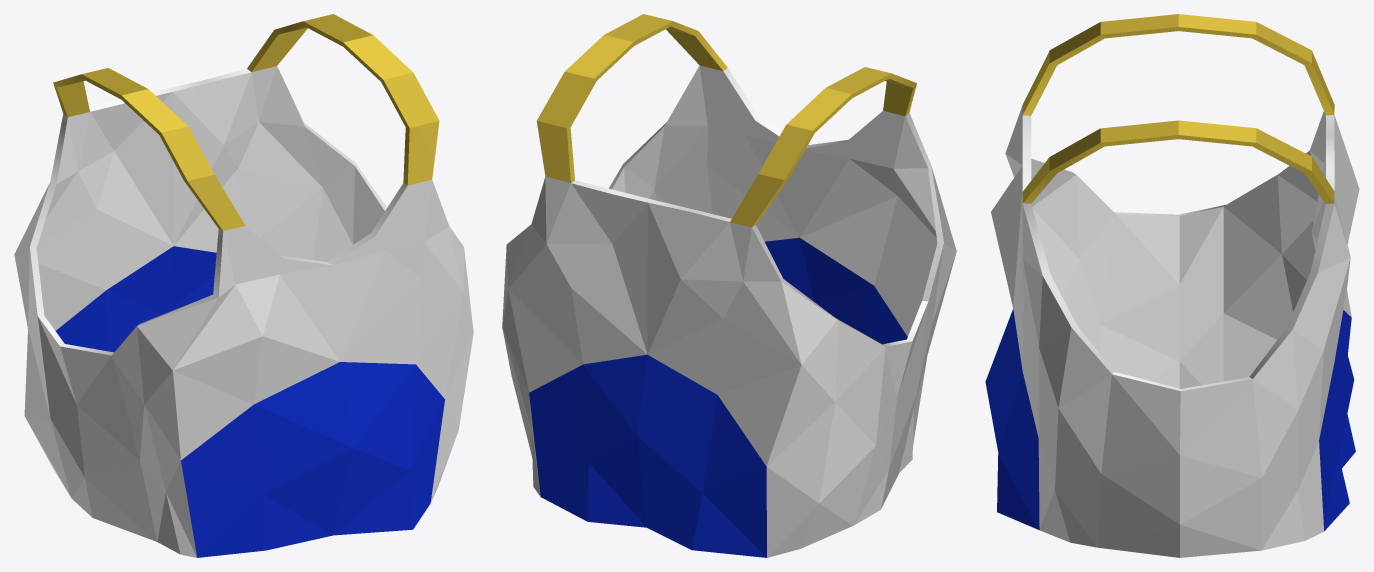
The model's file is corps_vegeta.fbx.
3 renders of one model, left to right at view 1: azimuth 30°, elevation 25°; view 2: azimuth 150°, elevation 25°; view 3: azimuth 270°, elevation 25°, orthographic. The views are drawn at different scales.
Parts seen in each view (by area): view 1: Box045; view 2: Box045; view 3: Box045.
Part boxes in pixels (left/top/right/bottom): Box045: left=14, top=14, right=473, bottom=557; Box045: left=502, top=14, right=956, bottom=557; Box045: left=985, top=14, right=1359, bottom=557.
Bounding box in the file's own units: 57.85 × 60.57 × 50.67.
